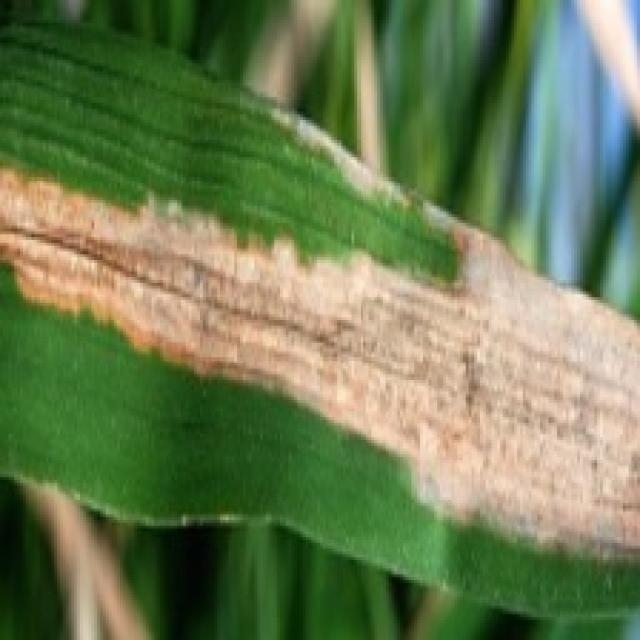Rice___Bacterial_Leaf_Blight: (0, 18, 637, 618)
